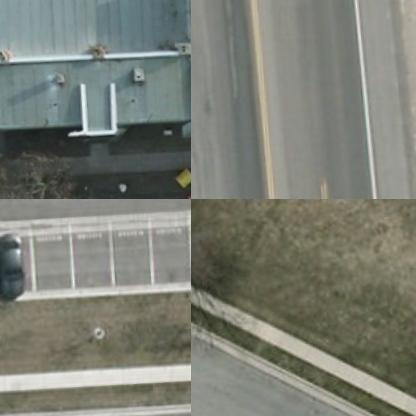car: (0, 236, 27, 306)
